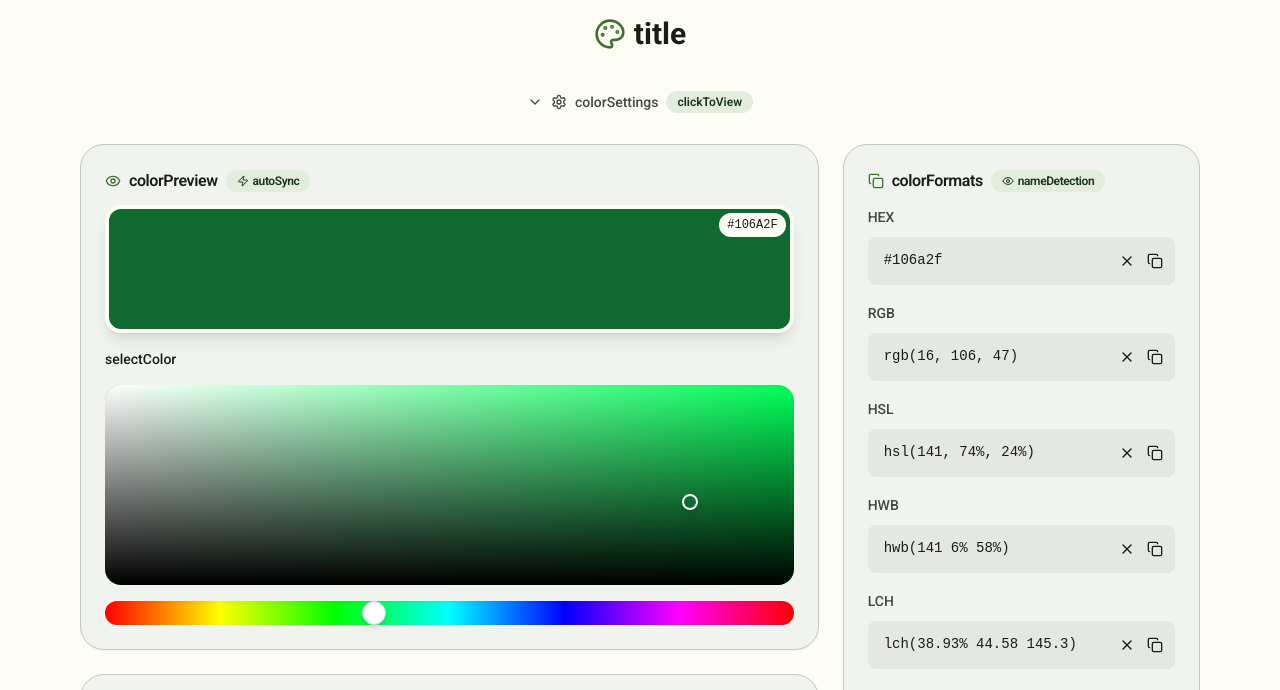
Test: color picker formats › applies a typed rgb() value to the other formats and keeps the text being typed
Replace the text in the field labelled "rgb" with "rgb(255 0 0)". click: (1021, 357)
box: [868,333,1175,381]
Wait 200 ms
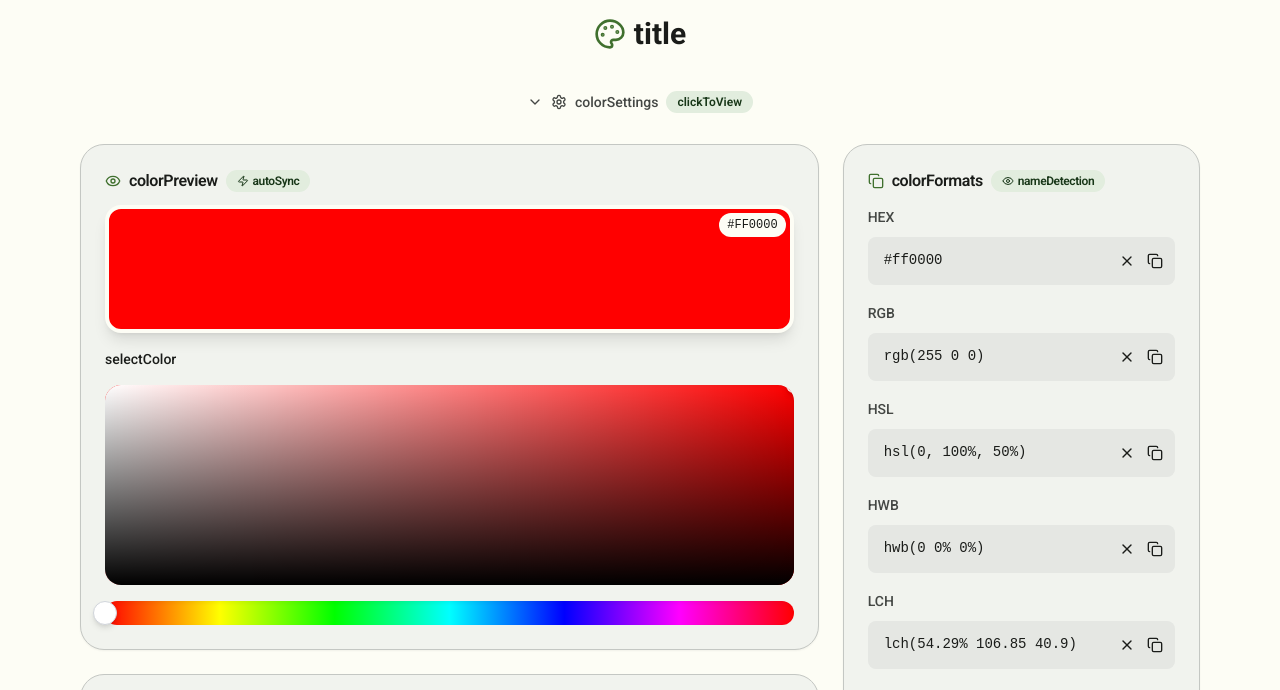
Result: the field labelled "hex" holds "#ff0000" at [868,237,1175,285]
Result: the field labelled "hsl" holds "hsl(0, 100%, 50%)" at [868,429,1175,477]
